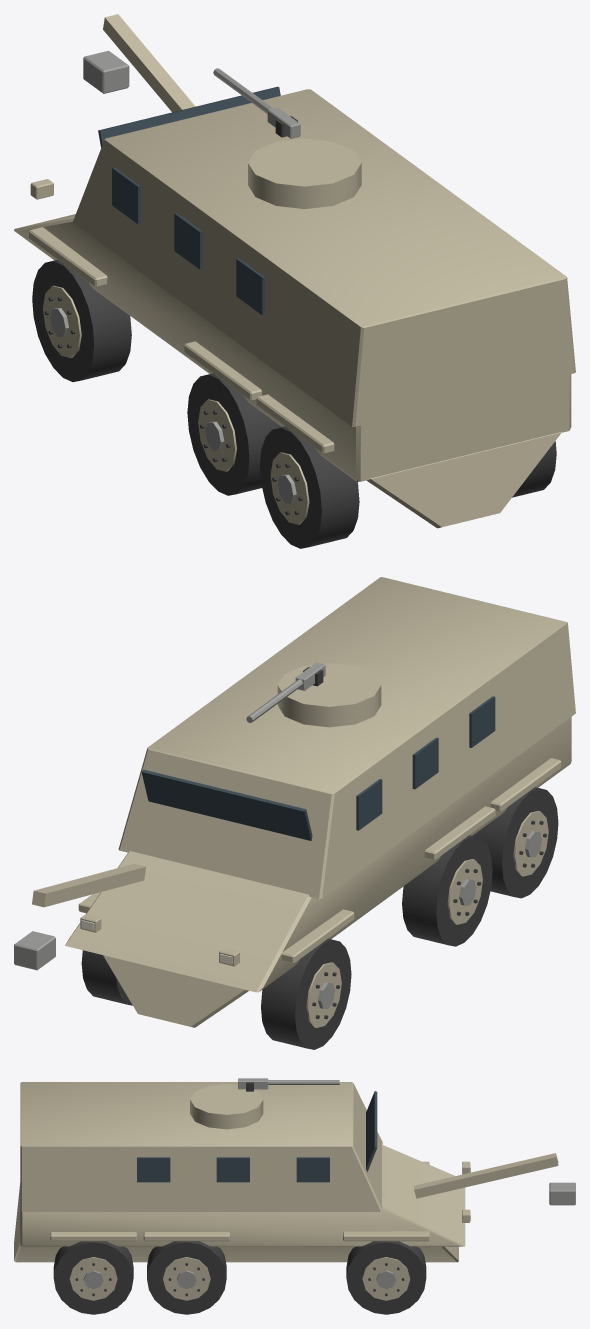
File: usa_mrap_buff.glb
The picture shows the model from 3 angles, top to bottom: view 1: azimuth 30°, elevation 25°; view 2: azimuth 150°, elevation 25°; view 3: azimuth 270°, elevation 25°; orthographic projection. The views are drawn at different scales.
Visible parts, largest first — view 1: body, wheel_0, wheel_4, wheel_2, turret, barrel, wheel_5; view 2: body, wheel_2, wheel_0, wheel_4, turret, wheel_1, barrel; view 3: body, wheel_5, wheel_1, wheel_3, turret, barrel.
Boxes of the visible parts, x1,y1,x2,y2 form: body: (14, 14, 575, 528); wheel_0: (32, 260, 131, 381); wheel_4: (260, 426, 359, 548); wheel_2: (187, 373, 281, 495); turret: (248, 138, 361, 208); barrel: (213, 68, 300, 138); wheel_5: (512, 441, 556, 497); body: (14, 577, 575, 1027); wheel_2: (402, 835, 492, 946); wheel_0: (261, 938, 351, 1049); wheel_4: (473, 787, 558, 898); turret: (277, 663, 381, 727); wheel_1: (81, 950, 132, 1005); barrel: (246, 662, 325, 722); body: (14, 1082, 575, 1262); wheel_5: (53, 1241, 133, 1314); wheel_1: (346, 1241, 426, 1314); wheel_3: (147, 1241, 226, 1314); turret: (190, 1084, 263, 1129); barrel: (238, 1078, 339, 1091).
Size of the model in its own units: 2.74 by 3.29 by 8.45.
